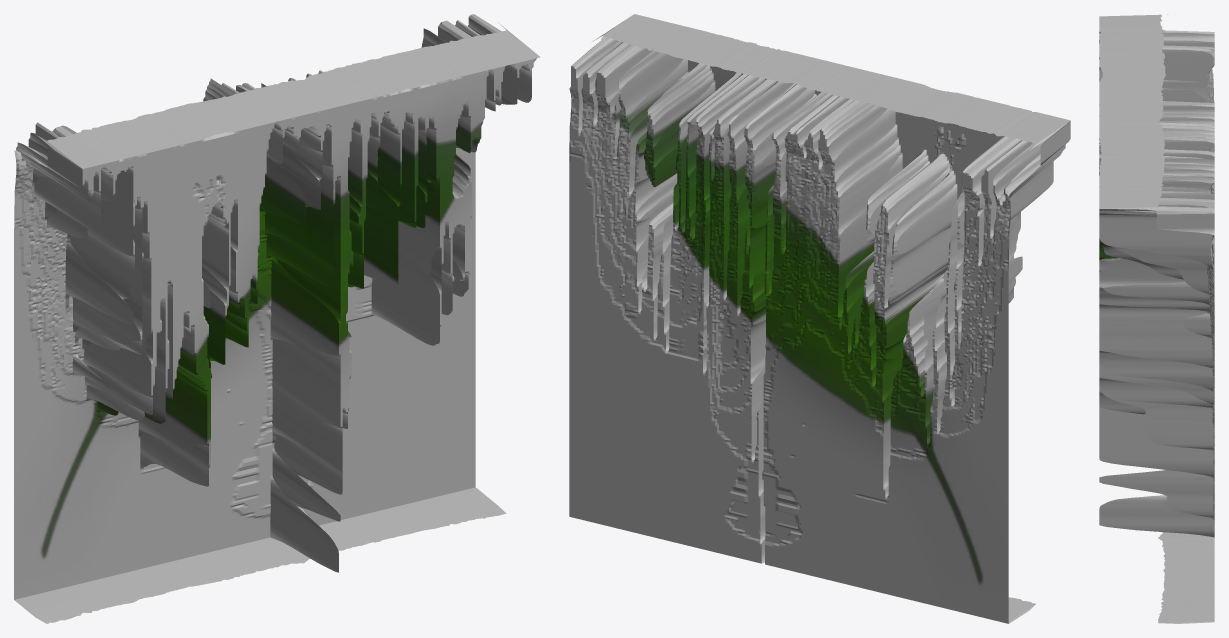
Rendered from Moho.fbx.
The picture shows the model from 3 angles, left to right: view 1: azimuth 30°, elevation 25°; view 2: azimuth 150°, elevation 25°; view 3: azimuth 270°, elevation 25°; orthographic projection. The views are drawn at different scales.
Visible parts, largest first — view 1: Plane.004; view 2: Plane.004; view 3: Plane.004.
Boxes of the visible parts, <box> form: Plane.004: <box>14,14,540,623</box>; Plane.004: <box>569,14,1070,623</box>; Plane.004: <box>1099,14,1214,623</box>.
Size of the model in its own units: 200 by 200 by 50.2.
